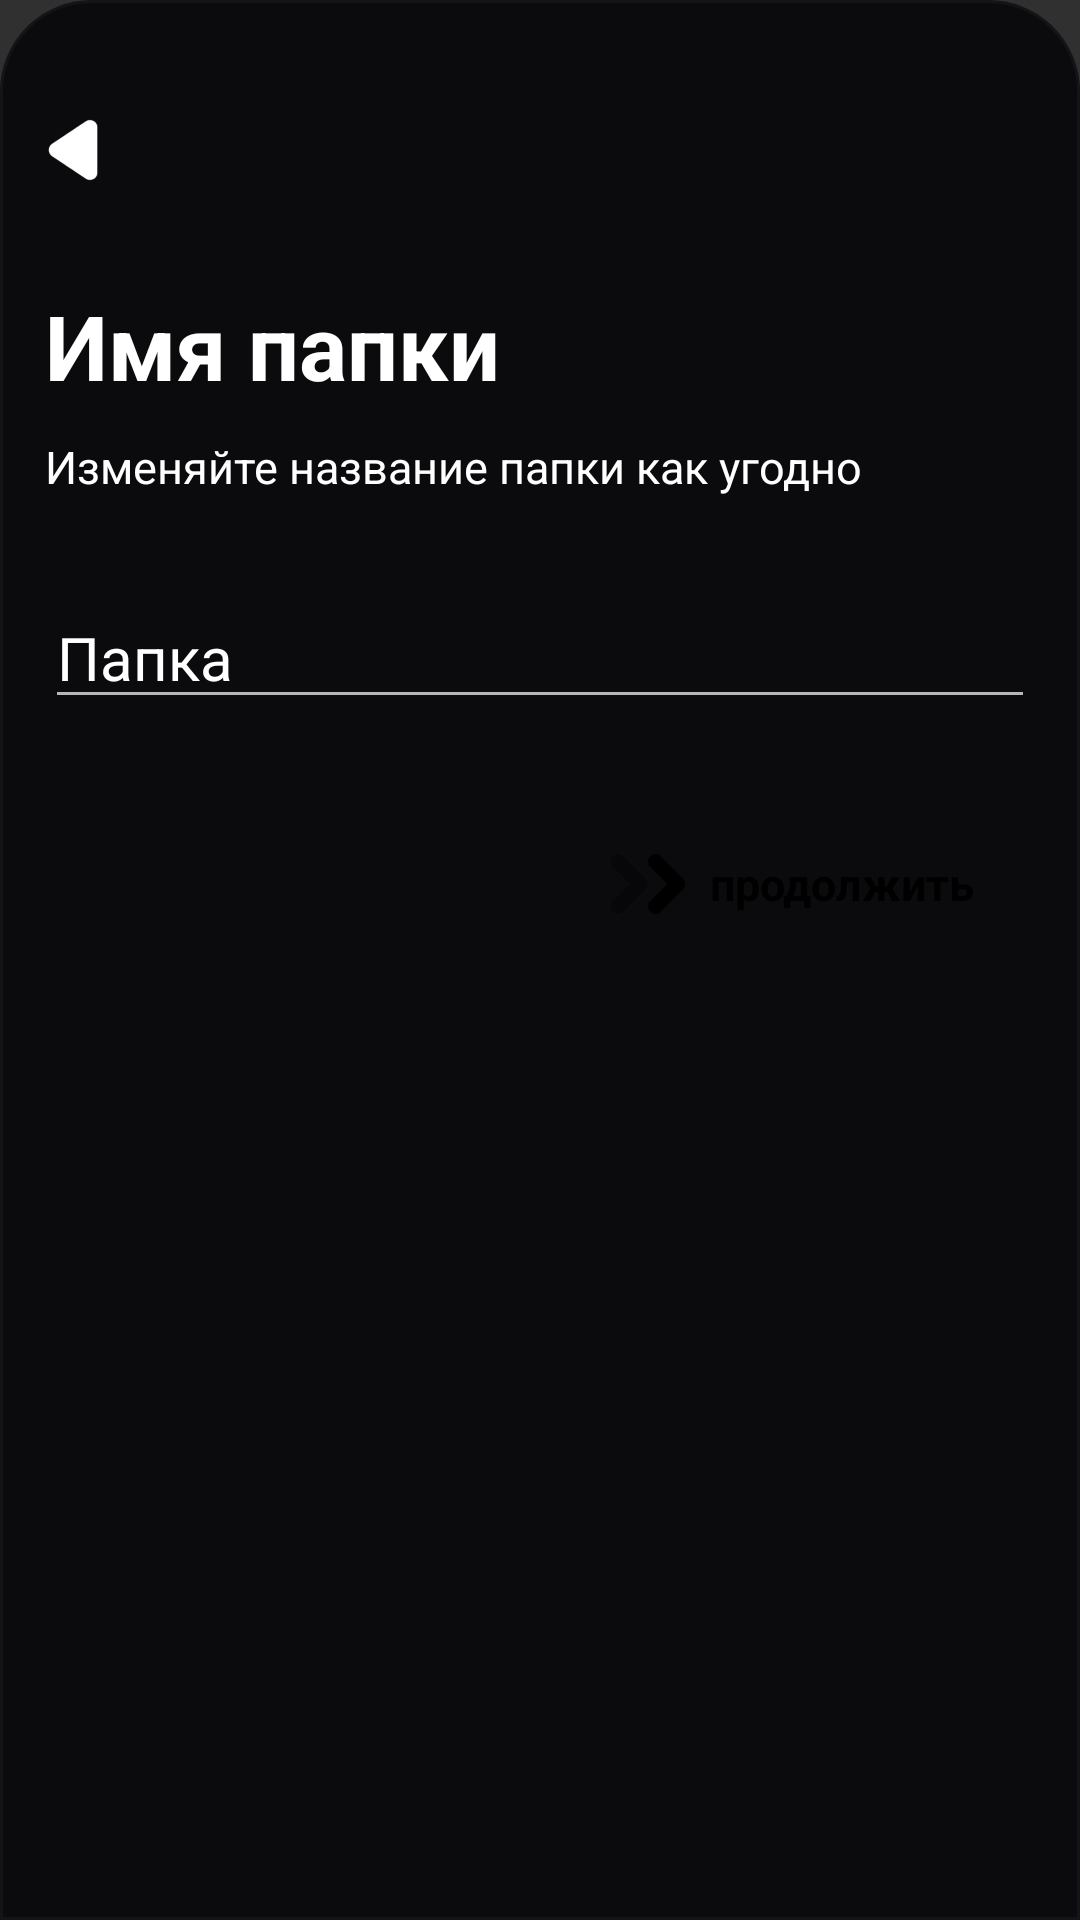

Icon bounding boxes for this 1080×1920 phone screenshot, format (x1,y1,x2,y2):
back: (48,120,98,180)
